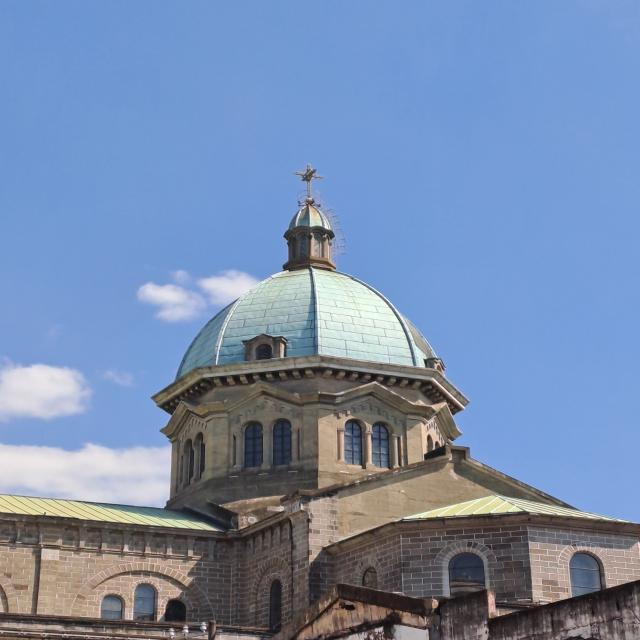Manila Cathedral: (0, 160, 640, 640)
